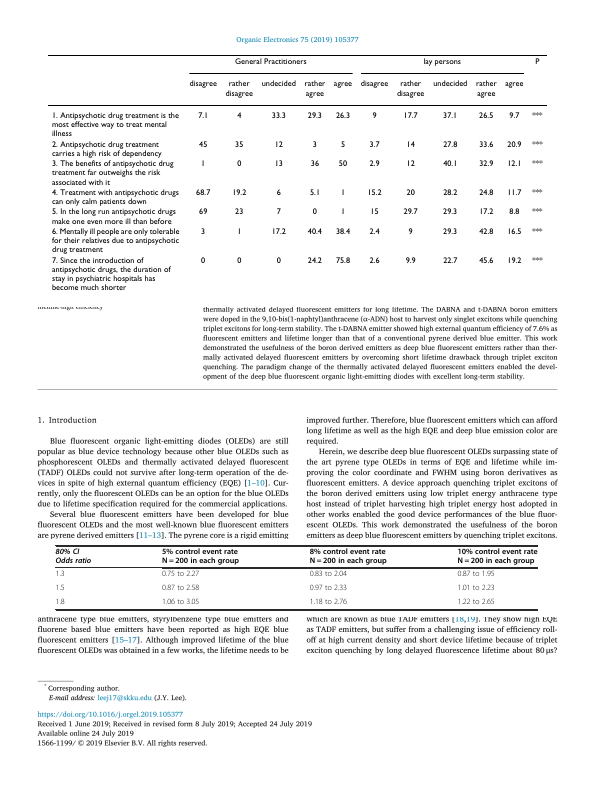borderless: (46, 53, 548, 301), (54, 544, 537, 609)
cell: (50, 256, 171, 293), (50, 227, 180, 255), (50, 111, 179, 139), (50, 159, 174, 188), (50, 207, 176, 227), (50, 188, 179, 207), (50, 140, 162, 159), (457, 548, 538, 566), (161, 548, 240, 566), (309, 548, 388, 566), (233, 57, 307, 67), (55, 548, 92, 565), (395, 80, 425, 99), (224, 80, 253, 99), (303, 80, 326, 99), (474, 80, 497, 99), (422, 57, 461, 67), (260, 80, 296, 89), (432, 80, 468, 89), (161, 571, 200, 578), (309, 571, 348, 578), (457, 571, 496, 578), (161, 585, 200, 592), (309, 585, 348, 592), (457, 585, 496, 592), (161, 599, 200, 606), (309, 599, 348, 606), (457, 599, 496, 606), (359, 80, 389, 89), (188, 80, 217, 89), (332, 80, 353, 89), (504, 80, 524, 89), (334, 227, 351, 237), (334, 256, 351, 266), (270, 111, 286, 121), (306, 111, 322, 121), (334, 111, 350, 121), (402, 111, 418, 121), (442, 111, 458, 121), (478, 111, 494, 121), (442, 140, 458, 150), (478, 140, 494, 150), (506, 140, 522, 150), (442, 159, 458, 169), (478, 159, 494, 169), (506, 159, 522, 169), (195, 188, 211, 198), (231, 188, 247, 198), (366, 188, 382, 198), (442, 188, 458, 198), (478, 188, 494, 198), (506, 188, 522, 198), (402, 207, 418, 217), (442, 207, 458, 217), (478, 207, 494, 217), (270, 227, 286, 237), (306, 227, 322, 237), (442, 227, 458, 237), (478, 227, 494, 237), (506, 227, 522, 237), (306, 256, 322, 266), (442, 256, 458, 266), (478, 256, 494, 266), (506, 256, 522, 266), (197, 111, 209, 121), (508, 111, 520, 121), (531, 111, 543, 121), (368, 140, 380, 150), (531, 140, 543, 150), (368, 159, 380, 169), (531, 159, 543, 169), (308, 188, 320, 198), (531, 188, 543, 198), (508, 207, 520, 217), (531, 207, 543, 217), (368, 227, 380, 237), (531, 227, 543, 237), (368, 256, 380, 266), (404, 256, 416, 266), (531, 256, 543, 266), (309, 159, 320, 169), (337, 159, 348, 169), (198, 140, 208, 150), (234, 140, 244, 150), (273, 140, 283, 150), (405, 140, 415, 150), (273, 159, 283, 169), (405, 159, 415, 169), (405, 188, 415, 198), (198, 207, 208, 217), (234, 207, 244, 217), (369, 207, 379, 217), (55, 571, 65, 578), (55, 585, 65, 592), (55, 599, 65, 606), (339, 140, 346, 150), (339, 188, 346, 198), (339, 207, 346, 217), (534, 57, 540, 67), (236, 111, 242, 121), (371, 111, 377, 121), (311, 140, 317, 150), (200, 159, 206, 169), (236, 159, 242, 169), (275, 188, 281, 198), (275, 207, 281, 217), (311, 207, 317, 217), (200, 227, 206, 237), (236, 227, 242, 237), (407, 227, 413, 237), (200, 256, 206, 266), (236, 256, 242, 266), (275, 256, 281, 266)
